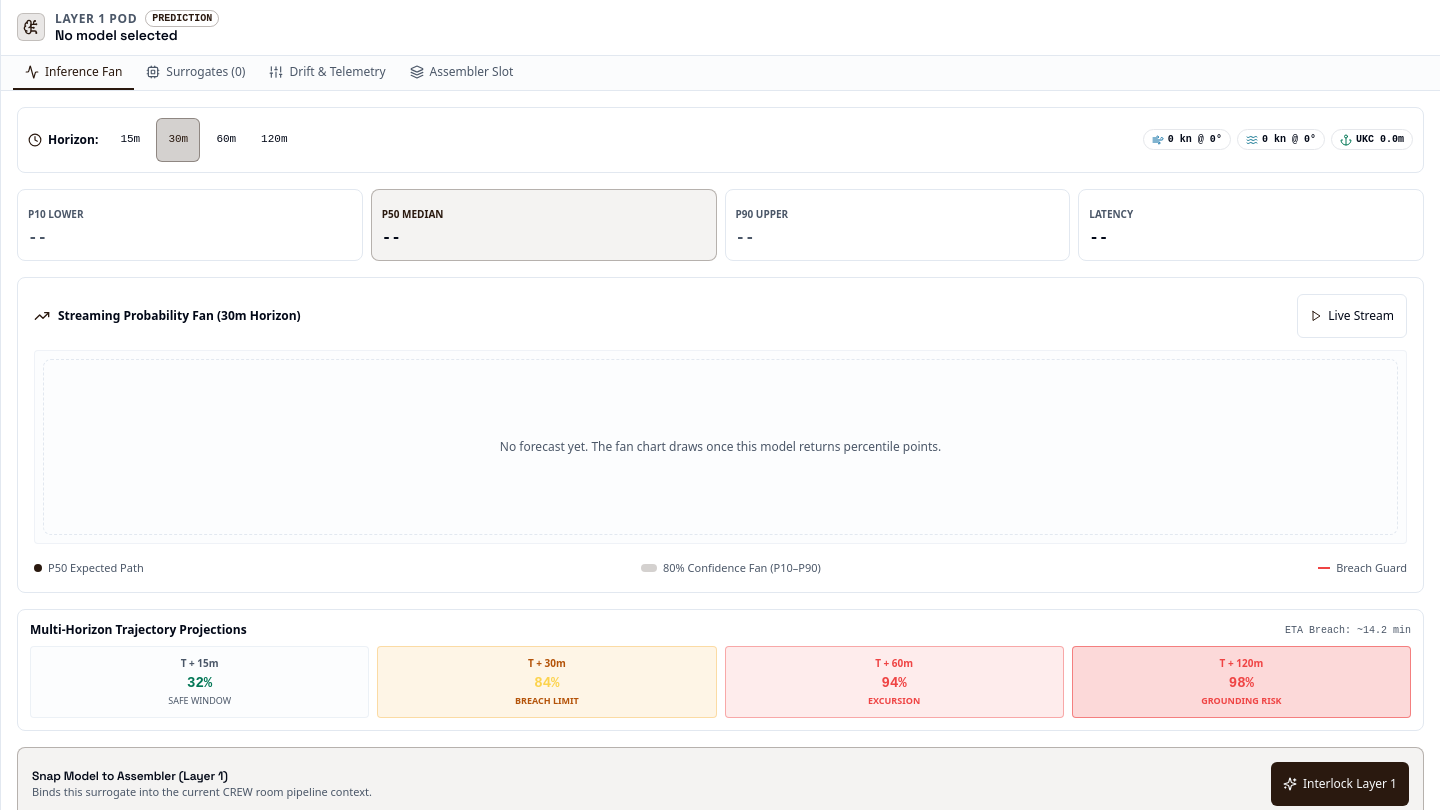
Test case: PredictionStudioPod Component › shows an empty state on each panel rather than an empty chart
The image size is (1440, 810).
Click the button "Surrogates (0)": (196, 72) [134, 56, 257, 90]
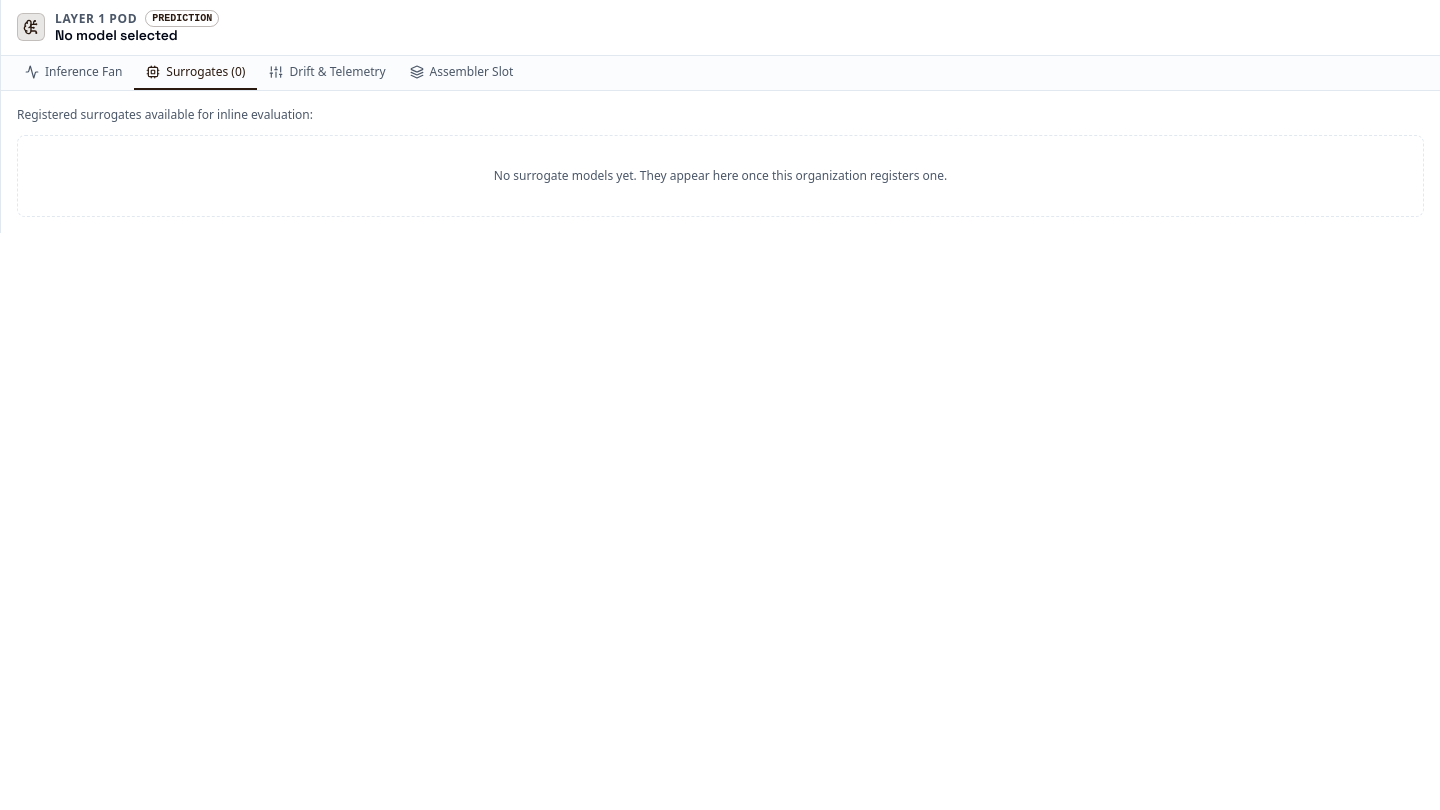
Check: the text "No surrogate models yet" is shown, box [494, 166, 947, 184]
Click the button "Drift & Telemetry": (328, 72) [257, 56, 398, 90]
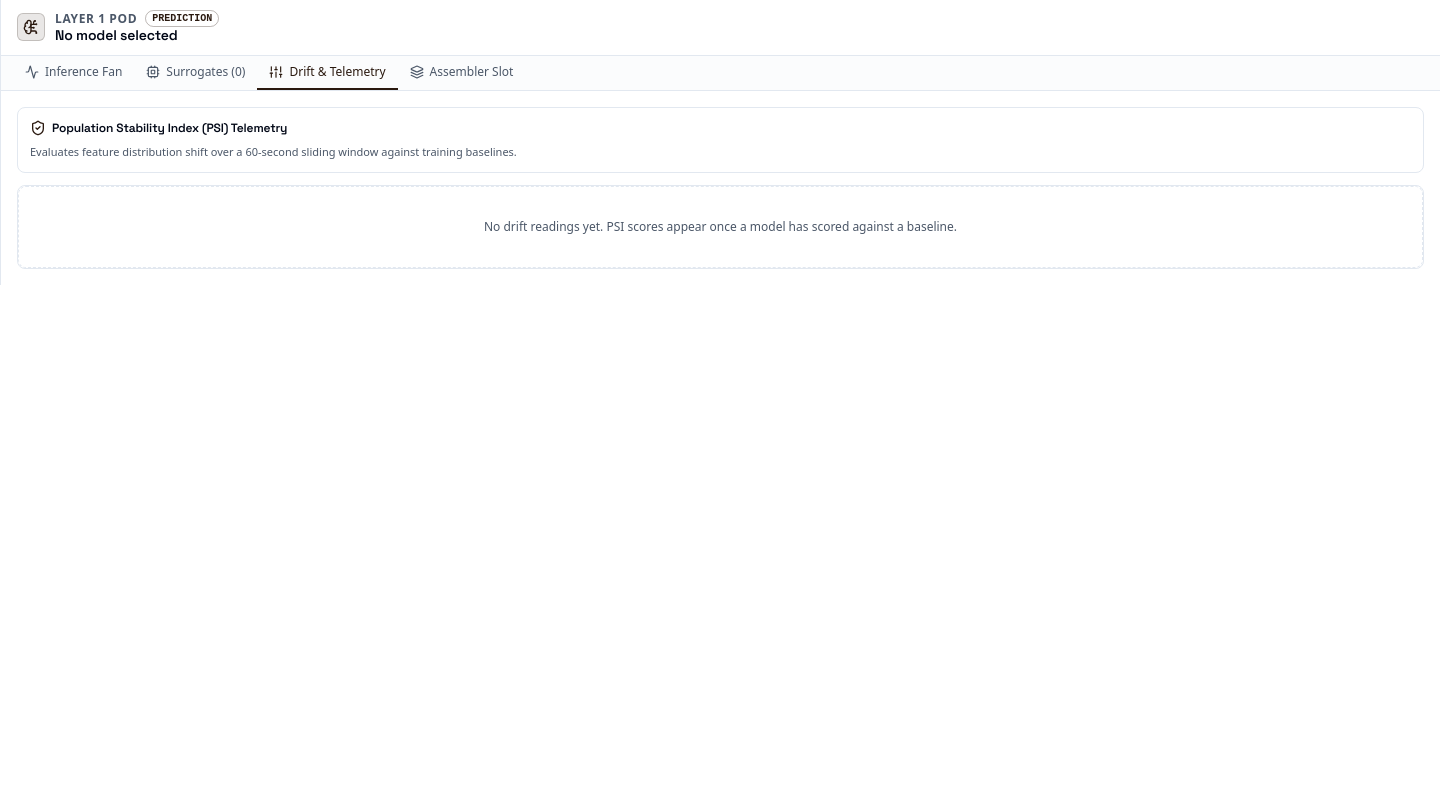
Check: the text "No drift readings yet" is shown, box [484, 218, 957, 235]
